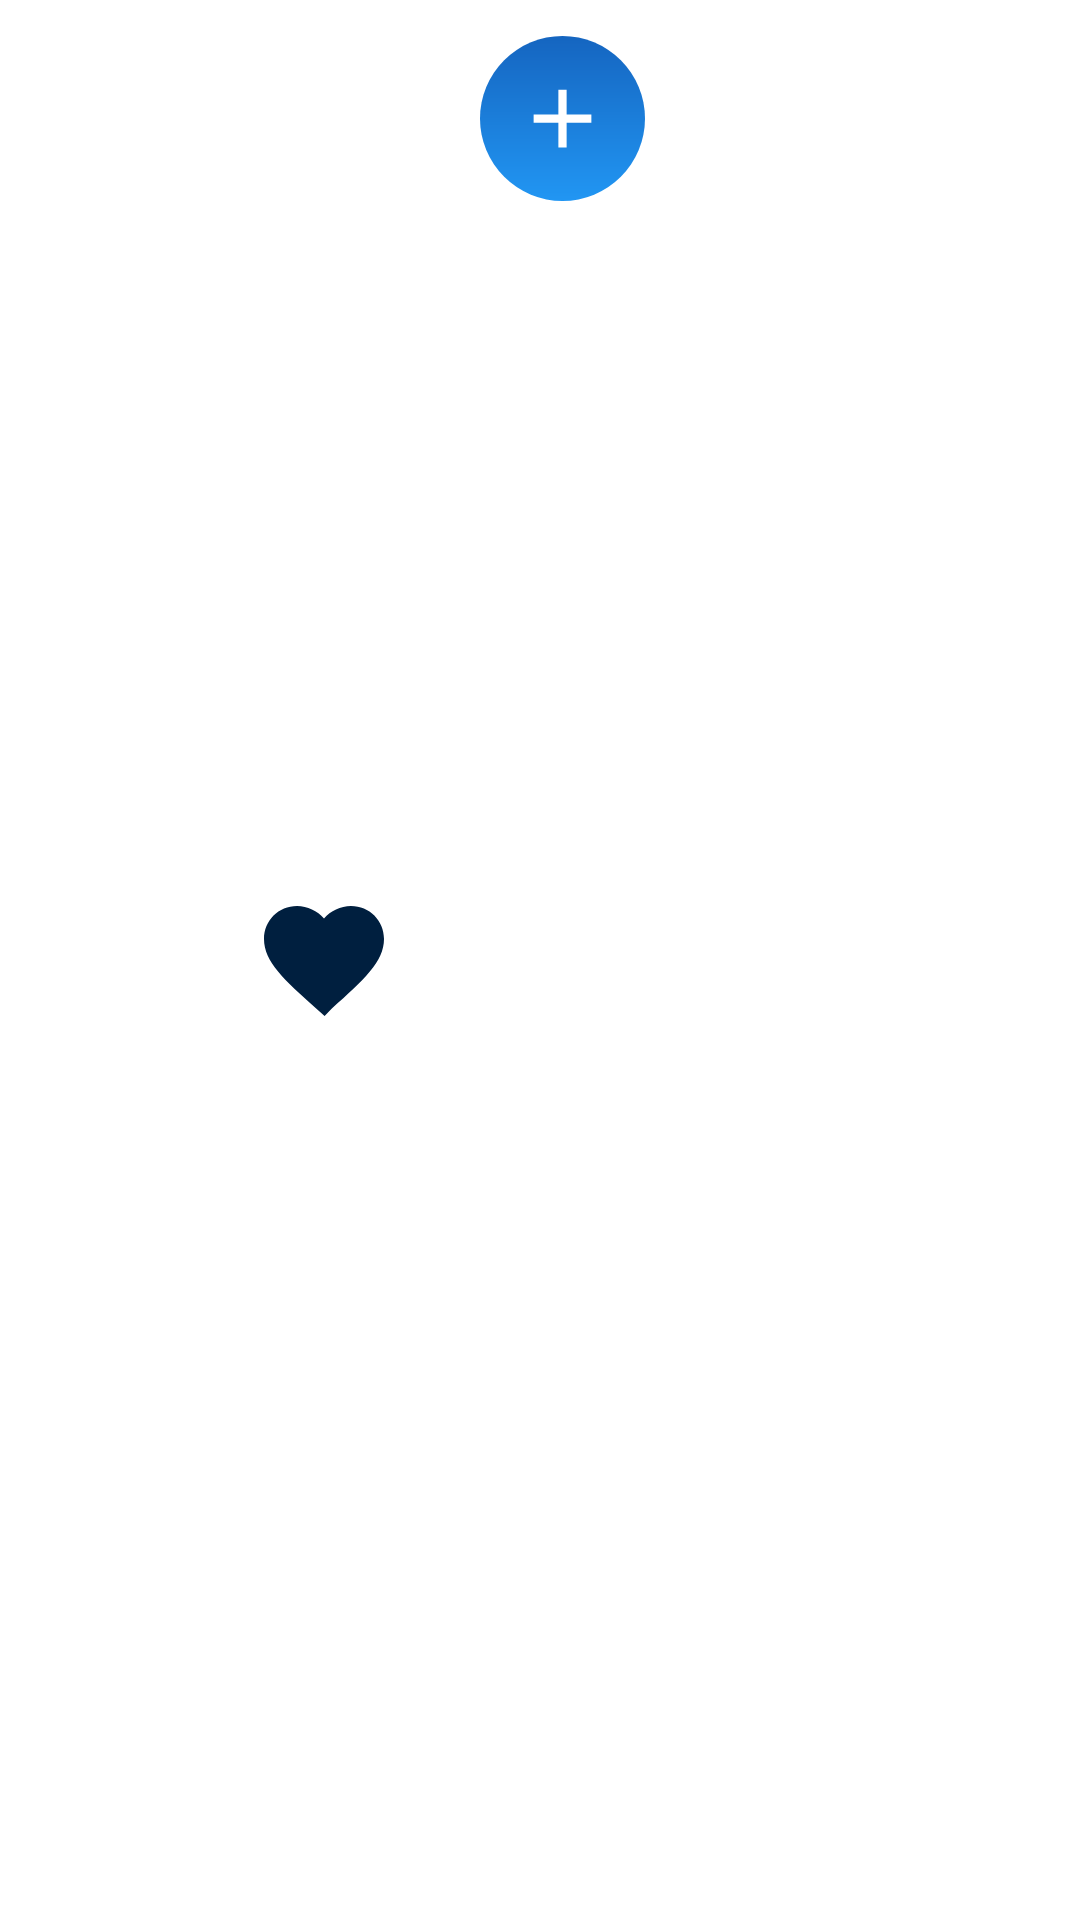

Icons on this 1080 × 1920 Android screen, each with its box as (x1, y1, x2, y2):
add: (480, 36, 645, 201)
heart: (264, 906, 384, 1016)
